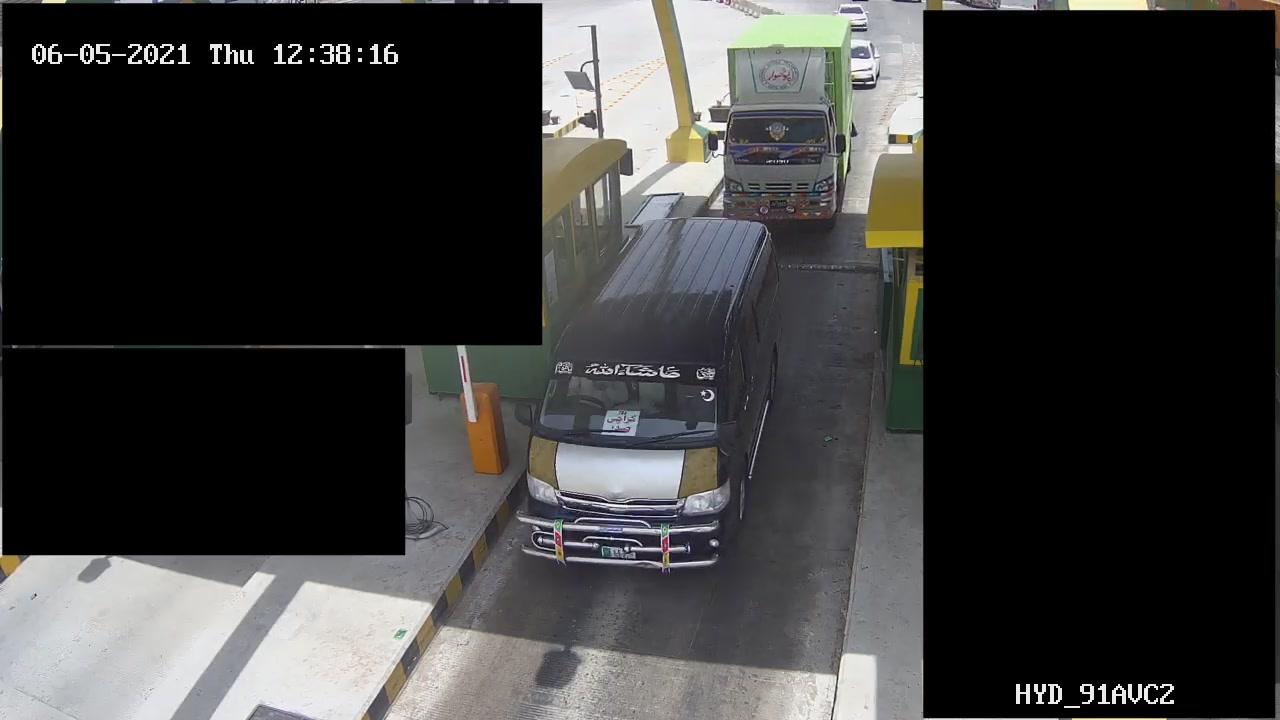F3: (713, 8, 862, 232)
